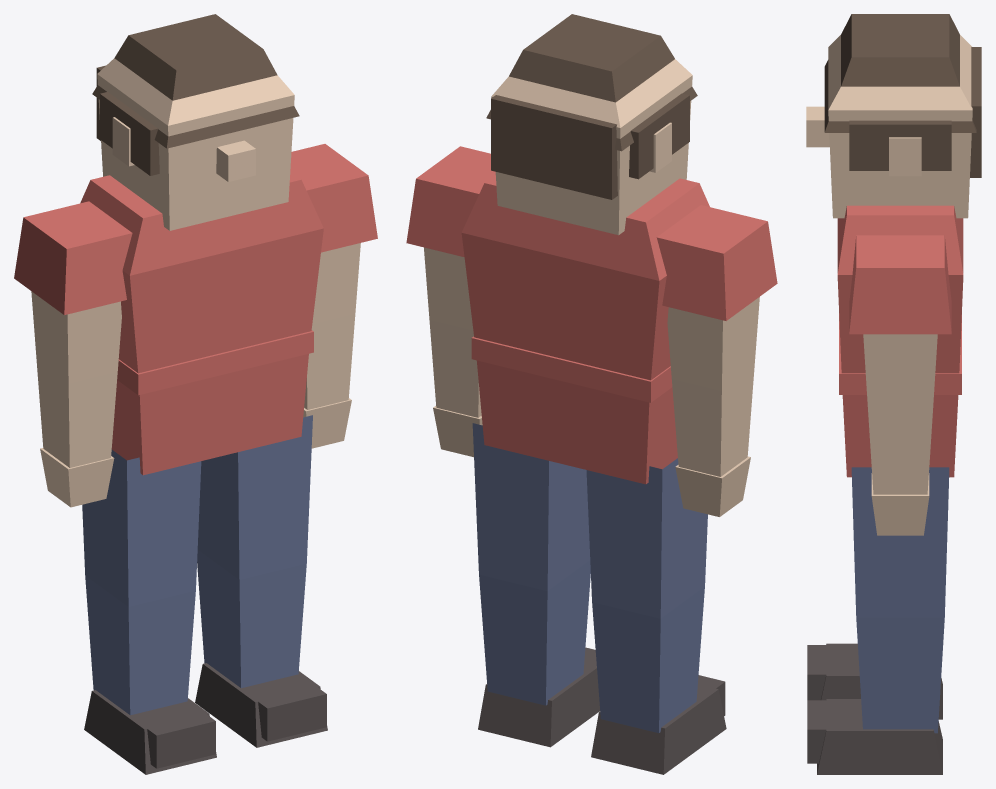
Rendered from player.glb.
3 renders of one model, left to right at view 1: azimuth 30°, elevation 25°; view 2: azimuth 150°, elevation 25°; view 3: azimuth 270°, elevation 25°, orthographic.
Parts seen in each view (by area): view 1: body, legR, legL, head, armR, hair, armL, shoeL, shoeR; view 2: body, legR, legL, hair, armR, head, armL, shoeR, shoeL; view 3: body, legL, head, hair, armL, shoeL, shoeR.
Part boxes in pixels (x1,y1,x2,y2): body: [14, 144, 377, 475]; legR: [82, 449, 201, 715]; legL: [197, 415, 312, 688]; head: [97, 58, 294, 230]; armR: [31, 291, 121, 507]; hair: [92, 14, 299, 175]; armL: [303, 243, 360, 448]; shoeL: [195, 663, 327, 747]; shoeR: [84, 690, 216, 774]; body: [406, 146, 777, 484]; legR: [586, 458, 707, 733]; legL: [472, 423, 590, 705]; hair: [486, 14, 697, 199]; armR: [667, 297, 759, 516]; head: [491, 59, 692, 235]; armL: [424, 247, 482, 457]; shoeR: [591, 675, 726, 774]; shoeL: [478, 647, 599, 747]; body: [837, 205, 963, 477]; legL: [851, 467, 949, 733]; head: [806, 35, 972, 218]; hair: [824, 14, 981, 177]; armL: [863, 334, 937, 535]; shoeL: [807, 699, 942, 774]; shoeR: [807, 643, 942, 719].
Size of the model in its own units: 0.396 by 0.821 by 0.188.
